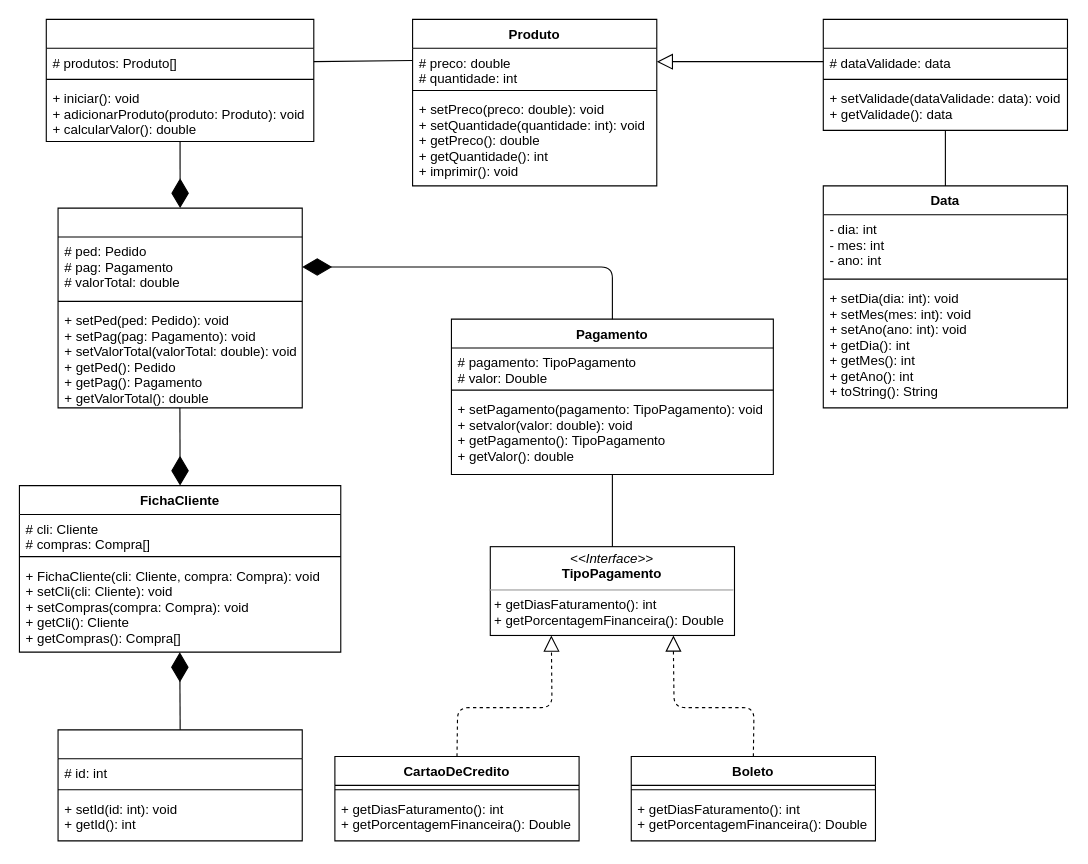
Image size: 1088x864. Some labels were removed from this diagram. The box of each missing label's shape, as (x1, y1, x2, y2) in pixels:
Cliente: (57, 729, 302, 841)
Compra: (57, 207, 302, 408)
Pedido: (45, 18, 314, 142)
Perecivel: (822, 18, 1067, 130)
